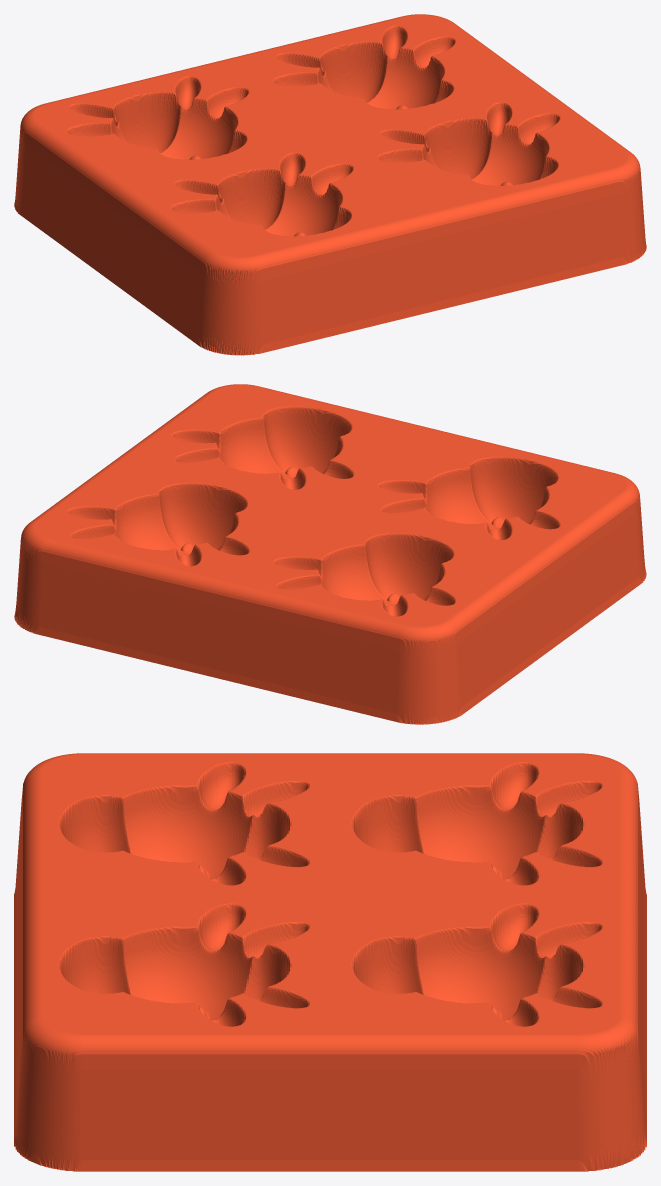
The model's file is mold.glb.
3 views of the same model, one above another, from view 1: azimuth 30°, elevation 25°; view 2: azimuth 150°, elevation 25°; view 3: azimuth 270°, elevation 25° (orthographic). The views are drawn at different scales.
Visible parts, largest first — view 1: geometry_0; view 2: geometry_0; view 3: geometry_0.
Boxes of the visible parts, bbox=[...] form: geometry_0: bbox=[14, 14, 646, 355]; geometry_0: bbox=[14, 384, 646, 724]; geometry_0: bbox=[14, 753, 646, 1171].
Bounding box in the file's own units: 0.0938 × 0.0182 × 0.083.
